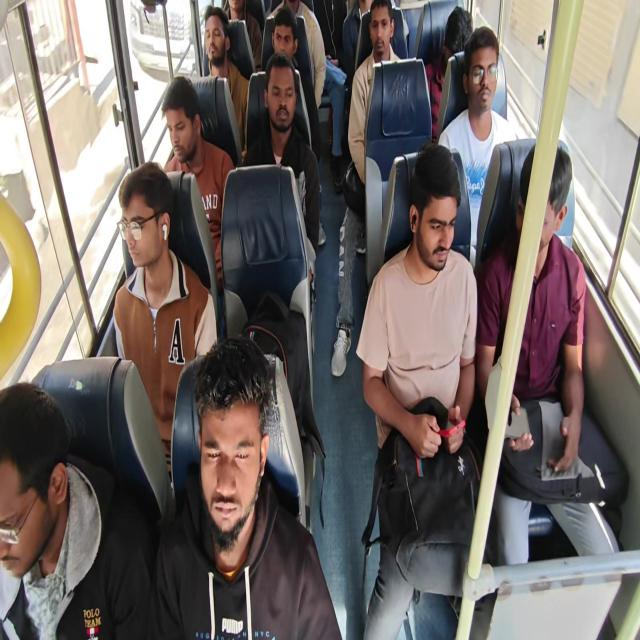person: (163, 326, 279, 619), (0, 397, 119, 622), (476, 134, 578, 310), (396, 148, 466, 315), (109, 172, 167, 316), (156, 75, 210, 174), (462, 24, 512, 128), (367, 5, 403, 89), (312, 0, 348, 77), (267, 54, 298, 136), (199, 11, 230, 76), (436, 3, 467, 63), (271, 0, 317, 28), (274, 5, 300, 52), (354, 0, 404, 22), (230, 0, 247, 38)
